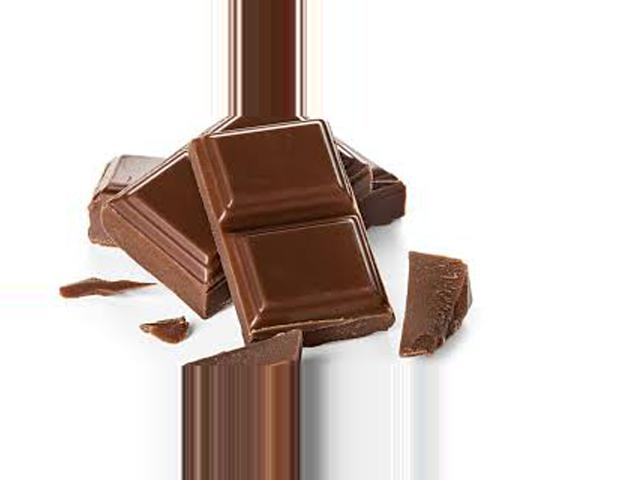chocolate: (186, 128, 385, 340)
